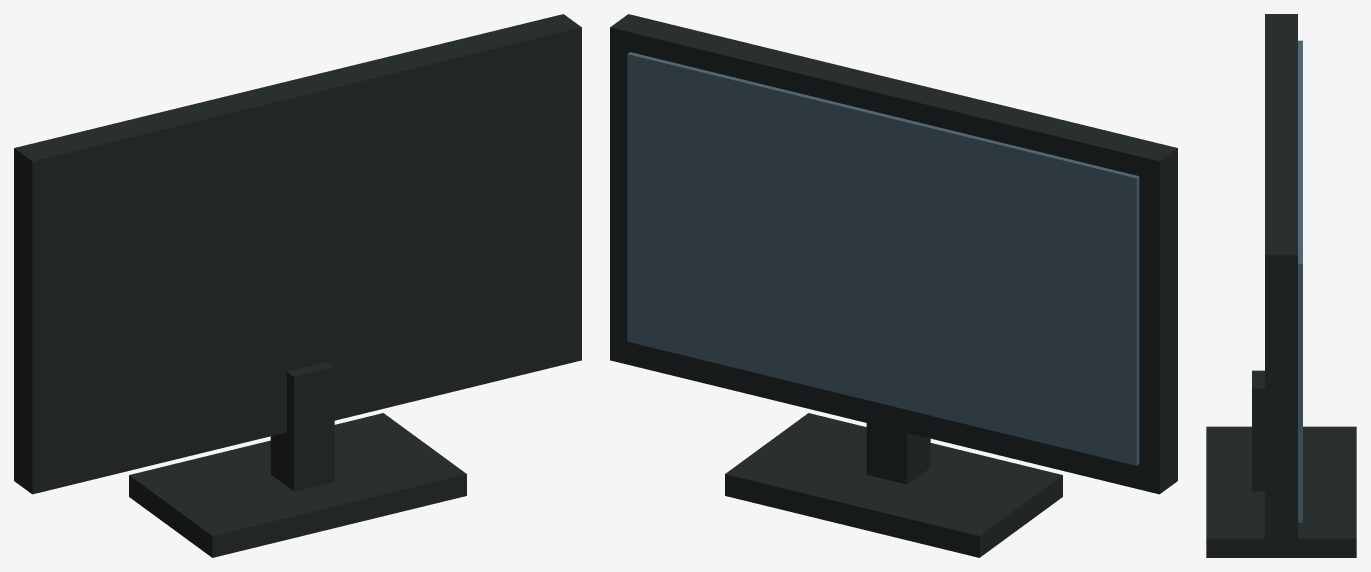
Rendered from television_flat.glb.
3 renders of one model, left to right at view 1: azimuth 30°, elevation 25°; view 2: azimuth 150°, elevation 25°; view 3: azimuth 270°, elevation 25°, orthographic. The views are drawn at different scales.
Parts seen in each view (by area): view 1: television_flat; view 2: television_flat; view 3: television_flat.
Part boxes in pixels (bbox=[...]): television_flat: bbox=[14, 14, 581, 557]; television_flat: bbox=[610, 14, 1177, 557]; television_flat: bbox=[1206, 14, 1356, 557].
Size of the model in its own units: 0.95 by 0.675 by 0.25.
